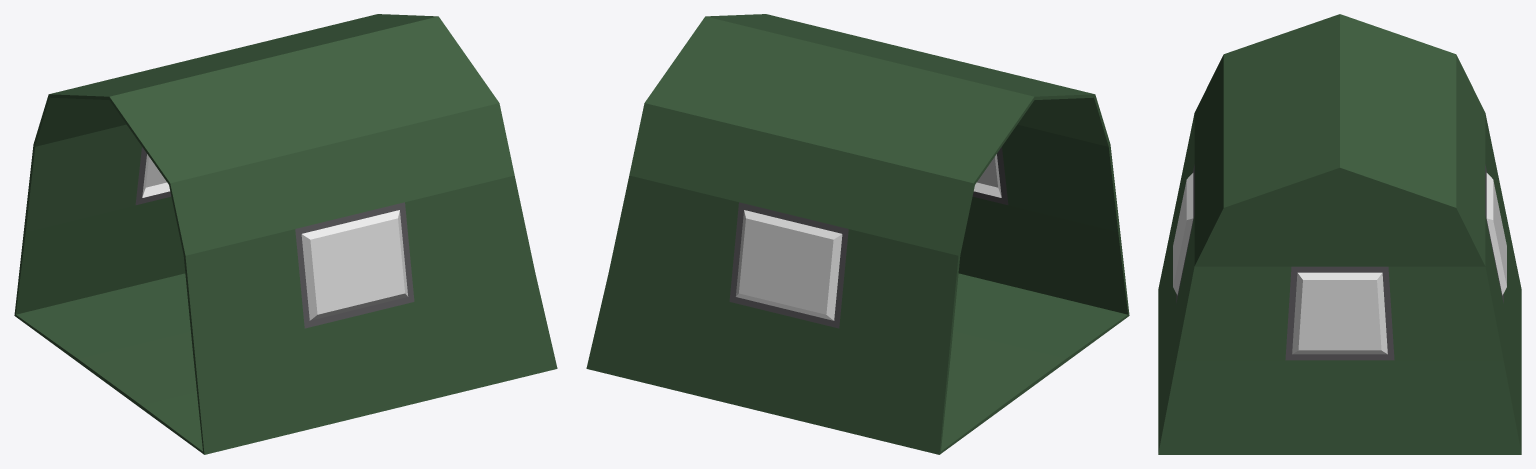
The picture shows the model from 3 angles, left to right: view 1: azimuth 30°, elevation 25°; view 2: azimuth 150°, elevation 25°; view 3: azimuth 270°, elevation 25°; orthographic projection. The views are drawn at different scales.
Parts seen in each view (by area): view 1: Plane; view 2: Plane; view 3: Plane.
Boxes of the visible parts, x1,y1,x2,y2 form: Plane: (14, 14, 557, 454); Plane: (586, 14, 1129, 454); Plane: (1158, 14, 1521, 454).
Bounding box in the file's own units: 2.14 × 2 × 1.68.
